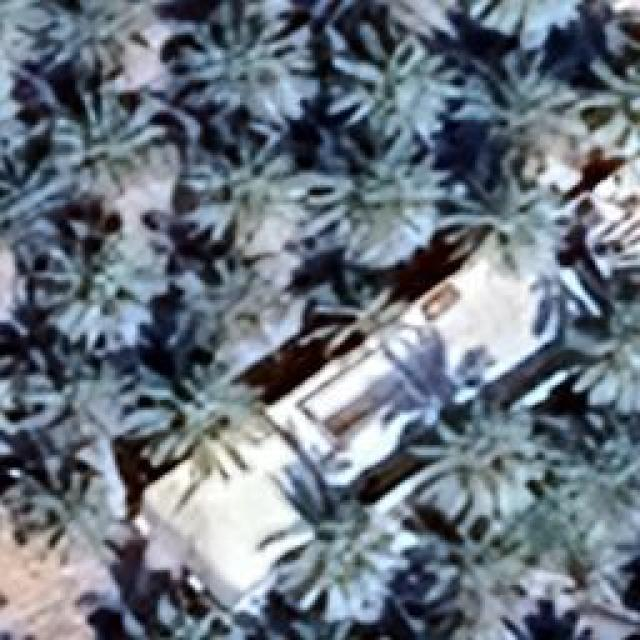PalmTree: (53, 125, 474, 588), (260, 492, 410, 626), (452, 45, 586, 193), (302, 280, 430, 430), (410, 400, 550, 535), (112, 90, 614, 125), (180, 2, 315, 130), (122, 360, 268, 478), (180, 128, 315, 255), (30, 230, 170, 352), (328, 29, 462, 142), (316, 148, 436, 262), (8, 460, 132, 570), (172, 255, 290, 368), (9, 345, 132, 453), (60, 90, 170, 205), (558, 268, 638, 418), (550, 432, 638, 542), (460, 174, 552, 274), (32, 0, 120, 100), (100, 590, 250, 638), (0, 85, 55, 210), (468, 0, 580, 45), (0, 0, 58, 84), (590, 165, 638, 265), (326, 0, 462, 33), (601, 548, 640, 640), (264, 617, 382, 640), (0, 334, 18, 471)
